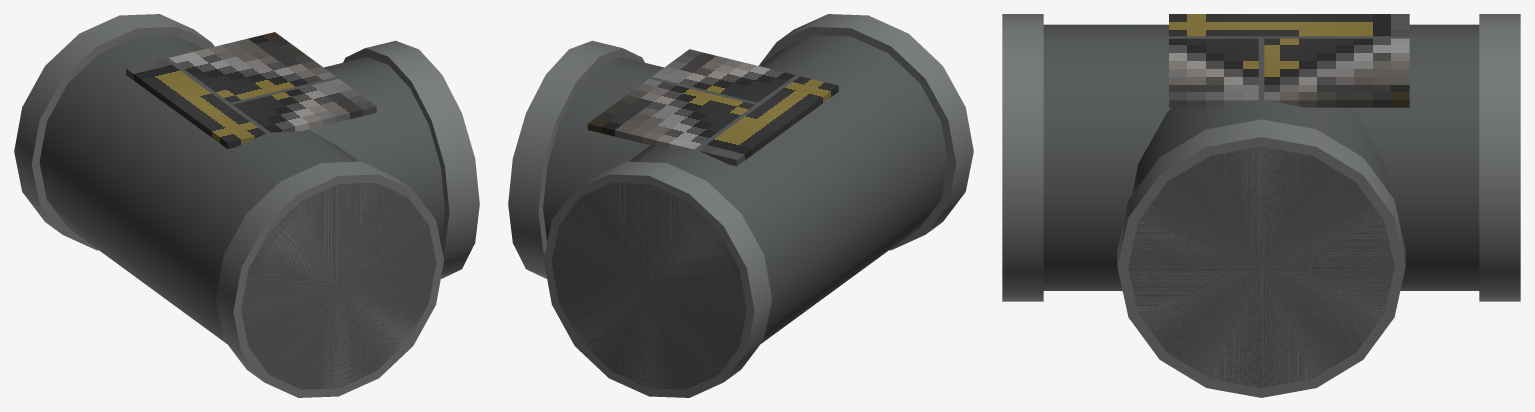
The model's file is CMU3DReduxDisposalRouterFlippedLoose.glb.
The picture shows the model from 3 angles, left to right: view 1: azimuth 30°, elevation 25°; view 2: azimuth 150°, elevation 25°; view 3: azimuth 270°, elevation 25°; orthographic projection. The views are drawn at different scales.
Parts seen in each view (by area): view 1: round S barrel, S coupling, round N barrel, source routing plate, round E barrel, E coupling, N coupling; view 2: round N barrel, N coupling, round S barrel, source routing plate, E coupling, round E barrel, S coupling; view 3: round E barrel, E coupling, round S barrel, round N barrel, source routing plate, N coupling, S coupling.
Boxes of the visible parts, x1,y1,x2,y2 form: round S barrel: [131, 104, 436, 389]; S coupling: [216, 161, 443, 397]; round N barrel: [39, 35, 229, 294]; source routing plate: [126, 32, 376, 148]; round E barrel: [229, 57, 444, 242]; E coupling: [343, 40, 479, 278]; N coupling: [14, 14, 214, 250]; round N barrel: [551, 104, 856, 389]; N coupling: [544, 161, 771, 397]; round S barrel: [758, 35, 948, 294]; source routing plate: [587, 49, 838, 166]; E coupling: [508, 40, 644, 278]; round E barrel: [543, 57, 758, 242]; S coupling: [759, 14, 973, 250]; round E barrel: [1128, 37, 1394, 388]; E coupling: [1117, 119, 1405, 397]; round S barrel: [1043, 24, 1261, 290]; round N barrel: [1261, 24, 1479, 290]; source routing plate: [1169, 14, 1409, 107]; N coupling: [1479, 14, 1520, 301]; S coupling: [1002, 14, 1043, 301].
Size of the model in its own units: 0.6805 by 0.486 by 0.875.
Materials: 4 (1 with a texture image).
